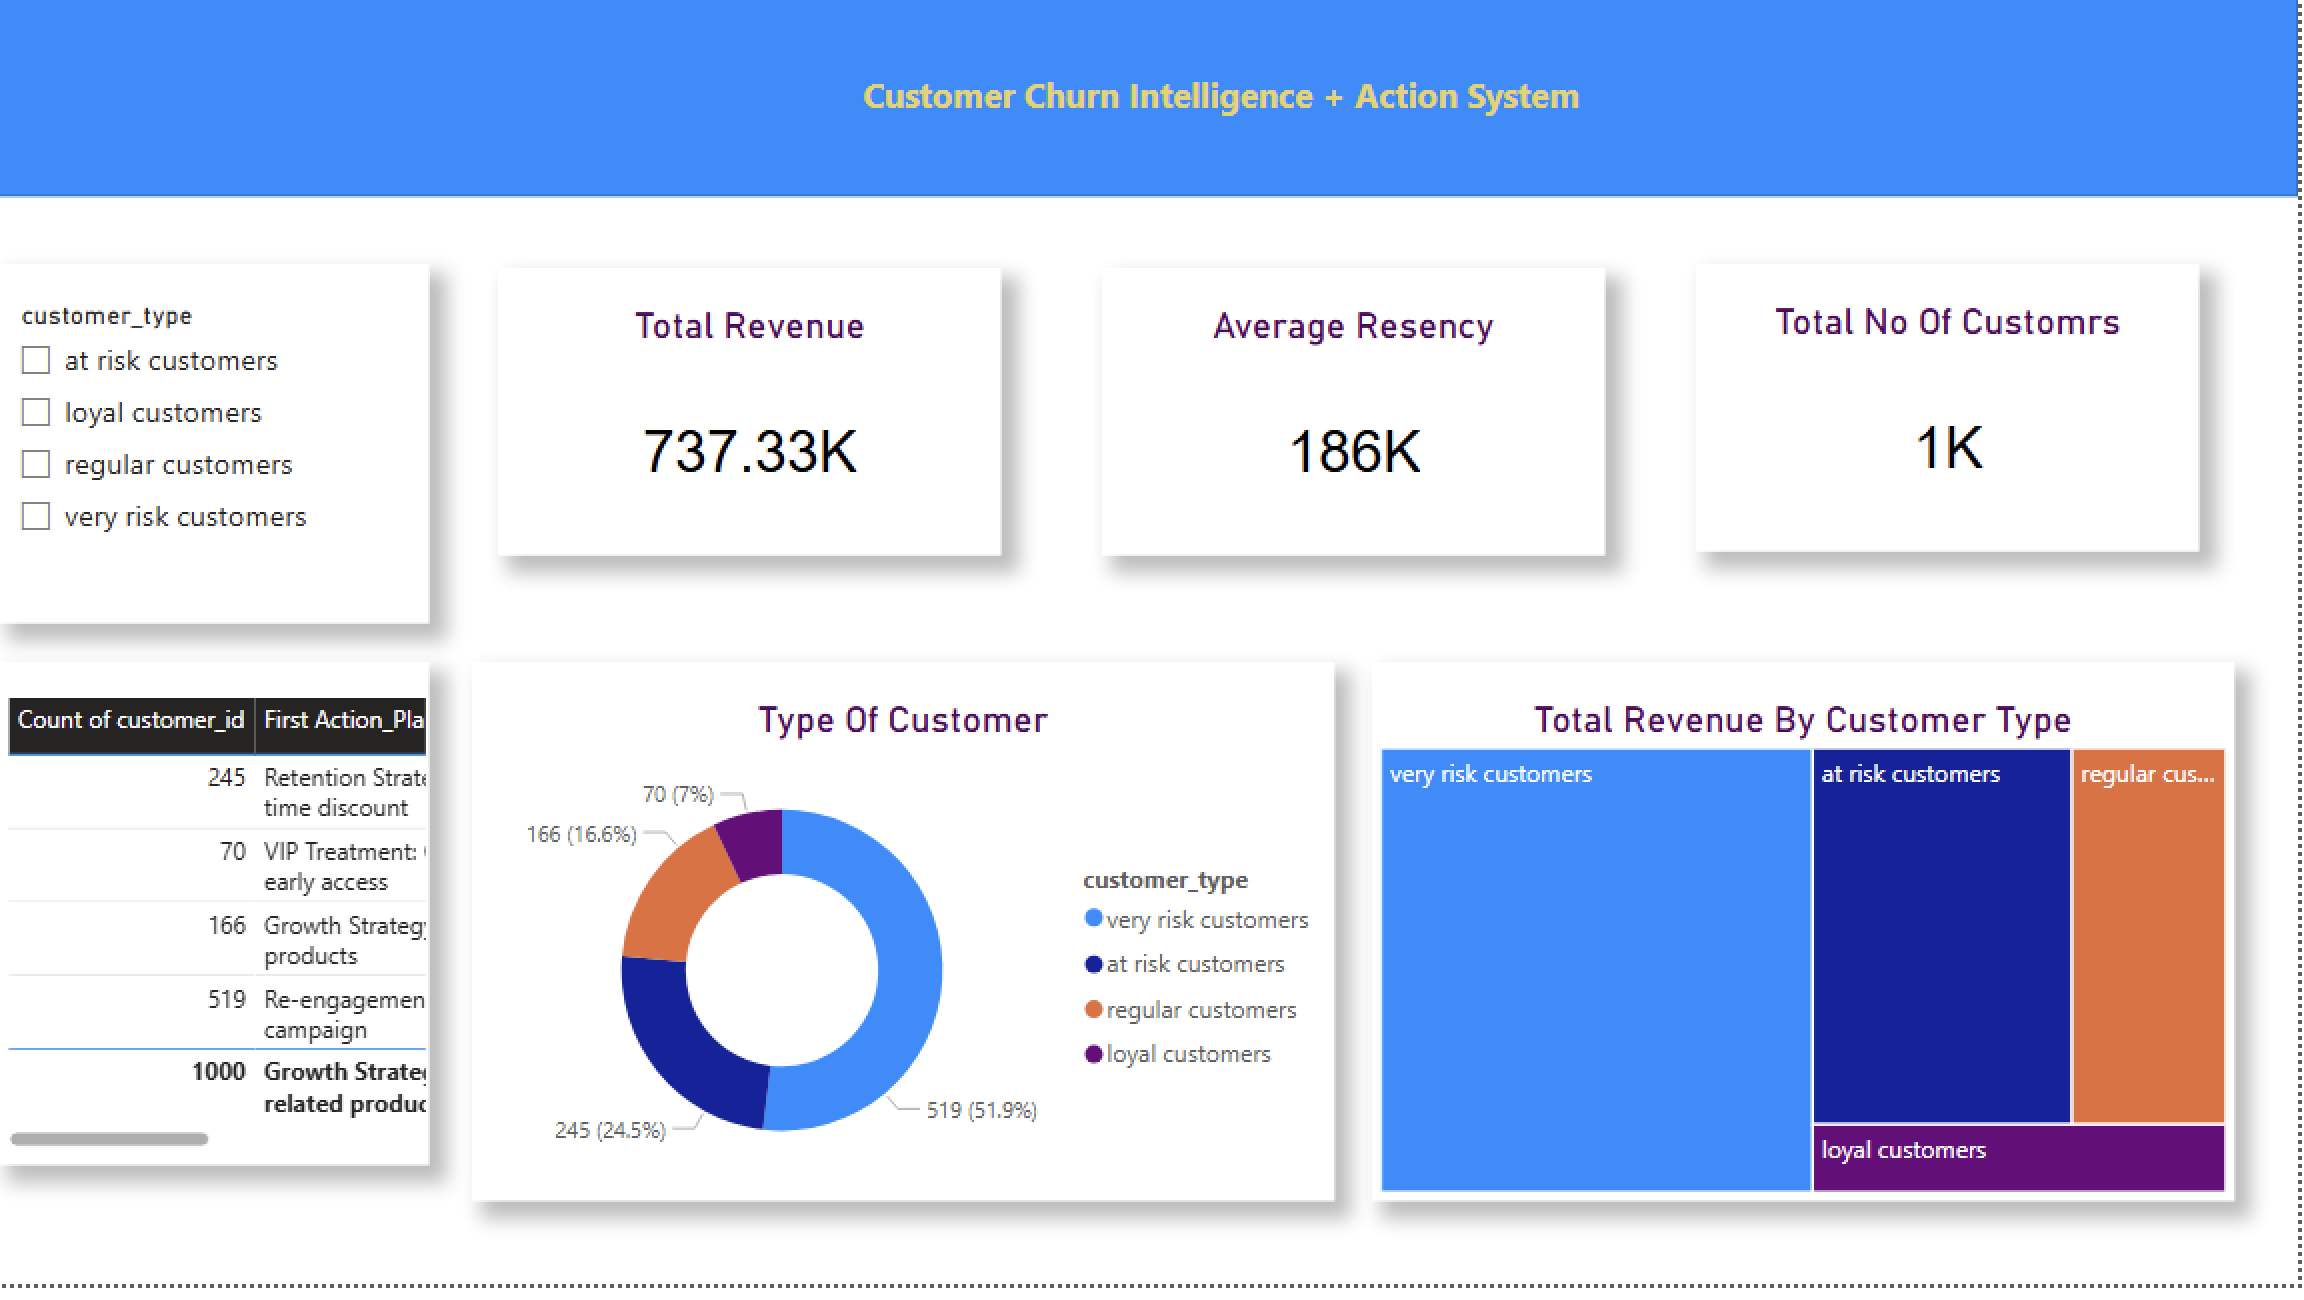

Layout of this report page (visuals, bound fields, positions):
{"tool":"powerbi","page":{"name":"Page 1","canvas":[1280,720],"ordinal":0},"visuals":[{"type":"cardVisual","title":"Total Revenue","fields":{"Data":["Sum(p_one.total_revenue)"]},"box":[278.2,154.7,280.4,160.2],"z":0},{"type":"shape","box":[0,0,1280,115.1],"z":1000},{"type":"textbox","box":[446.2,31.2,498.5,61.2],"z":2000},{"type":"cardVisual","title":"Average Resency","fields":{"Data":["Sum(p_one.recency)"]},"box":[614.3,154.7,280,160],"z":3000},{"type":"cardVisual","title":"Total No Of Customrs","fields":{"Data":["Count(p_one.customer_id)"]},"box":[944.8,152.5,280.4,160.2],"z":4000},{"type":"donutChart","title":"Type Of Customer","fields":{"Y":["CountNonNull(p_one.customer_id)"],"Category":["p_one.customer_type"]},"box":[263.7,373.9,480,300],"z":5000},{"type":"treemap","title":"Total Revenue By Customer Type","fields":{"Details":["p_one.customer_type"],"Values":["Sum(p_one.total_revenue)"]},"box":[765,373.8,480,300],"z":6000},{"type":"slicer","fields":{"Values":["p_one.customer_type"]},"box":[0,152.3,240,200],"z":7000},{"type":"tableEx","fields":{"Values":["p_one.customer_id","p_one.Recommended_Action","p_one.customer_type"]},"box":[0,373.9,240,280],"z":8000}]}

Visuals, with their boxes in screenshot pixels (x1, y1, x2, y2), scaled from the page's 1280x720 canvas onto the 2304x1300 screenshot:
"Total Revenue" cardVisual: (501,279,1005,569)
shape: (0,0,2303,208)
textbox: (803,56,1700,167)
"Average Resency" cardVisual: (1106,279,1610,568)
"Total No Of Customrs" cardVisual: (1701,275,2205,565)
"Type Of Customer" donutChart: (475,675,1339,1217)
"Total Revenue By Customer Type" treemap: (1377,675,2241,1217)
slicer - p_one.customer_type: (0,275,432,636)
tableEx - p_one.customer_id x p_one.Recommended_Action: (0,675,432,1181)
